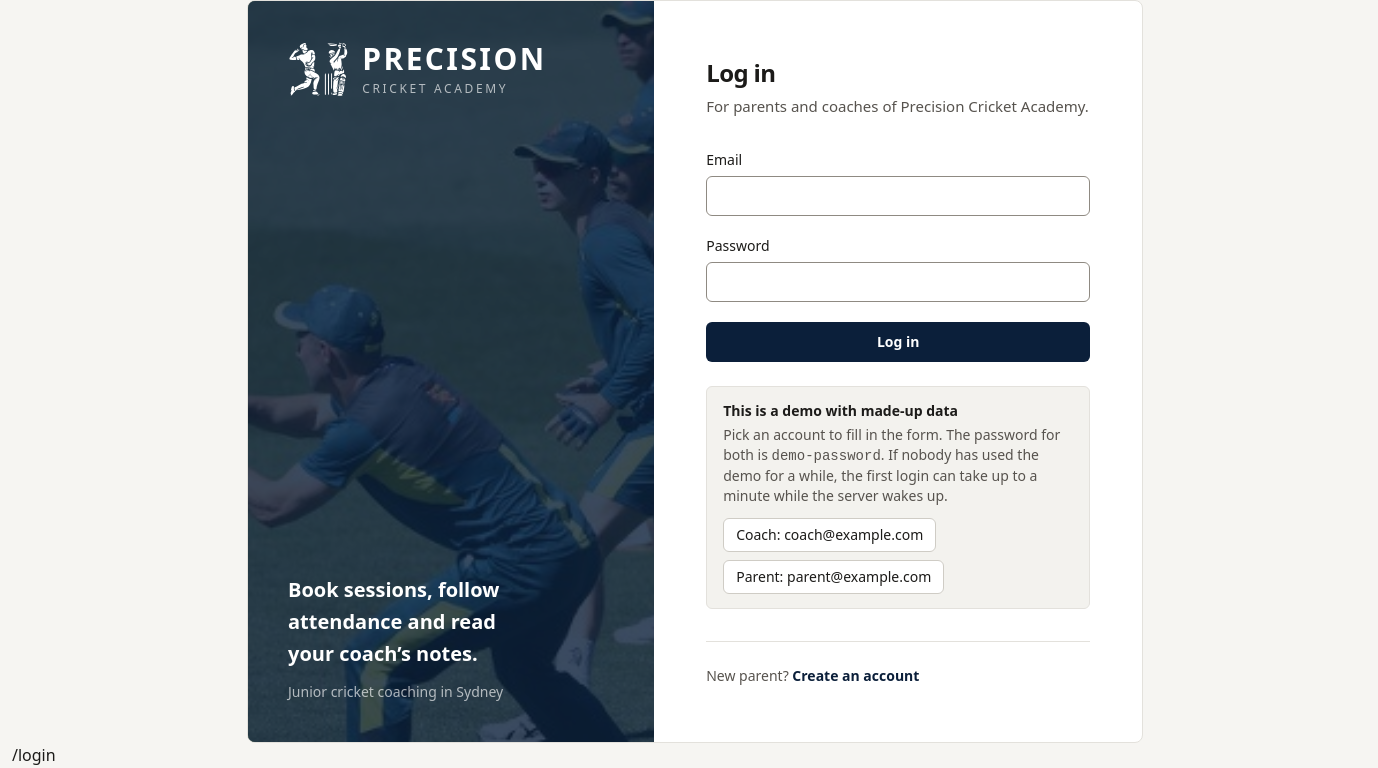
Test case: LoginPage › fills in a demo login on the live demo
The width and height of the screenshot is (1378, 768).
Click the button "Coach: coach@example.com" at (830, 534), box [723,518,936,552]
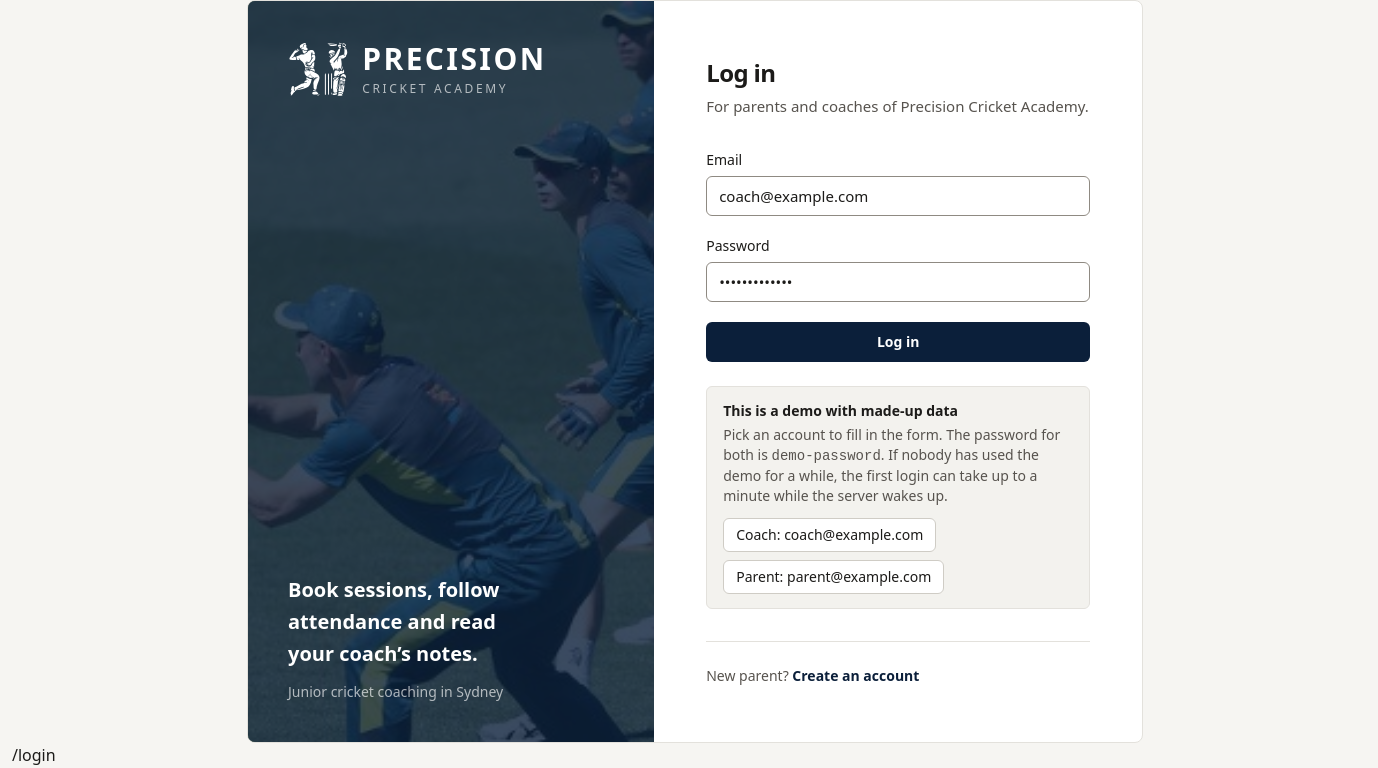
Result: the field labelled "Email" holds "coach@example.com" at [706,176,1090,216]
Result: the password field labelled "Password" holds "demo-password" at [706,262,1090,302]
